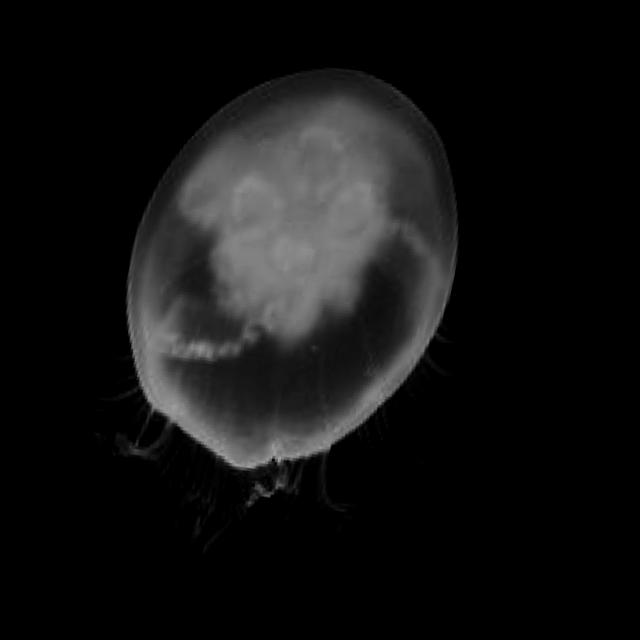Moon-jellyfish: (58, 33, 534, 609)
